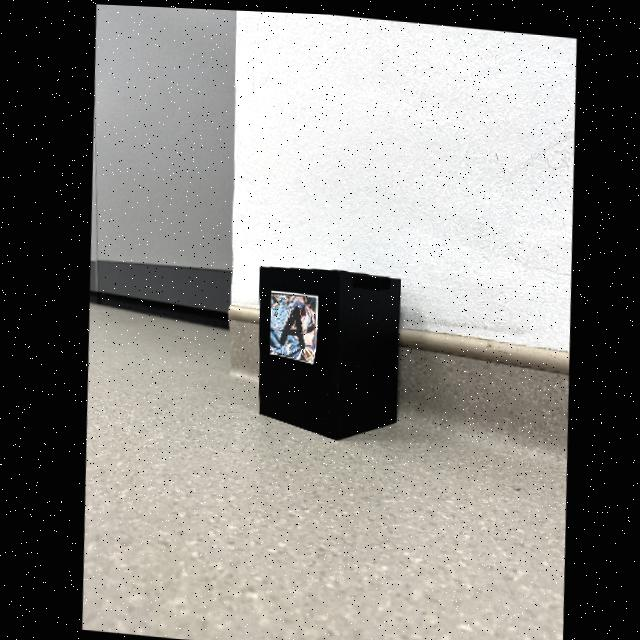A: (278, 305, 303, 348)
